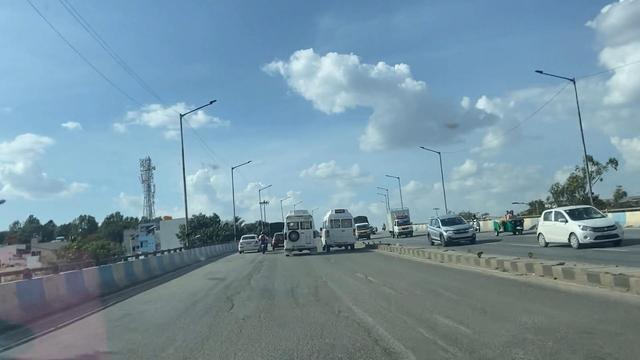HMV: (281, 209, 325, 260), (321, 207, 354, 251)
RoadDamages: (205, 275, 473, 360)
